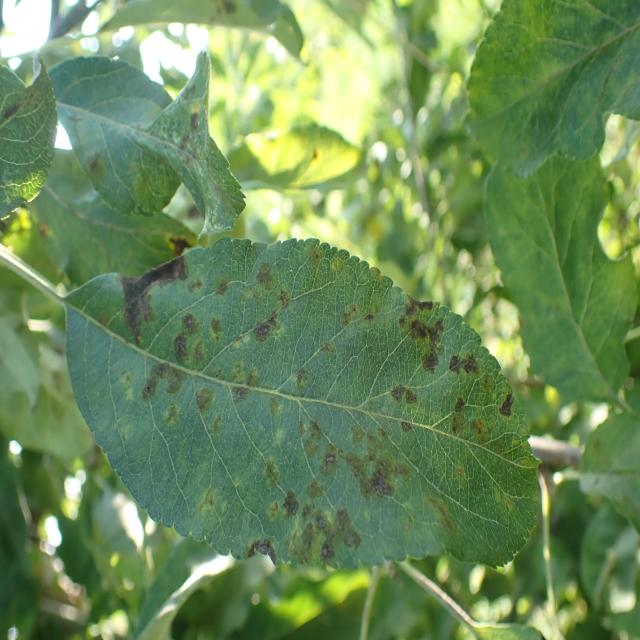scab: (91, 257, 528, 578), (68, 62, 232, 232), (477, 1, 640, 160)
